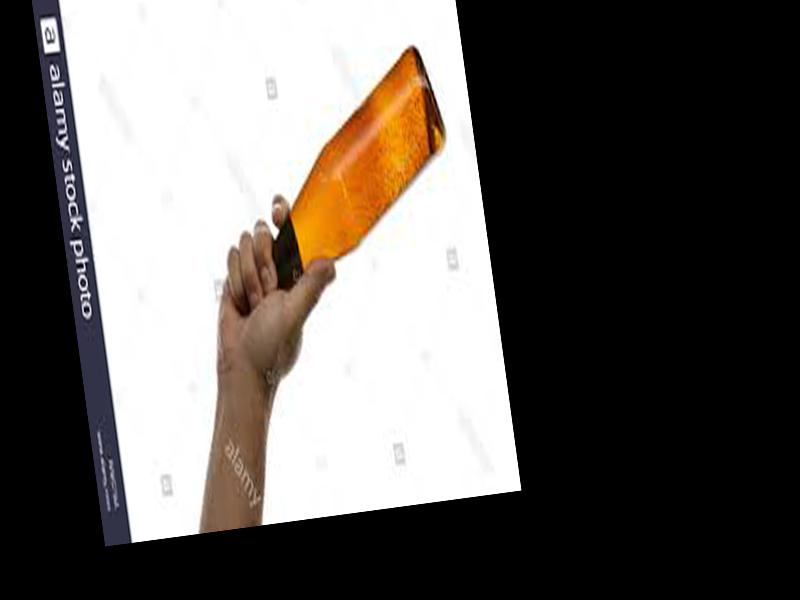Beer: (207, 42, 467, 311)
